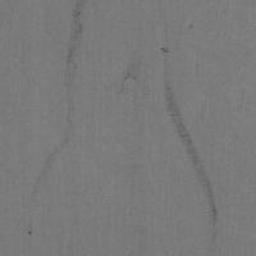Inclusion: (29, 0, 84, 195), (165, 81, 220, 256), (120, 72, 140, 93), (160, 45, 169, 54), (27, 229, 35, 237)
